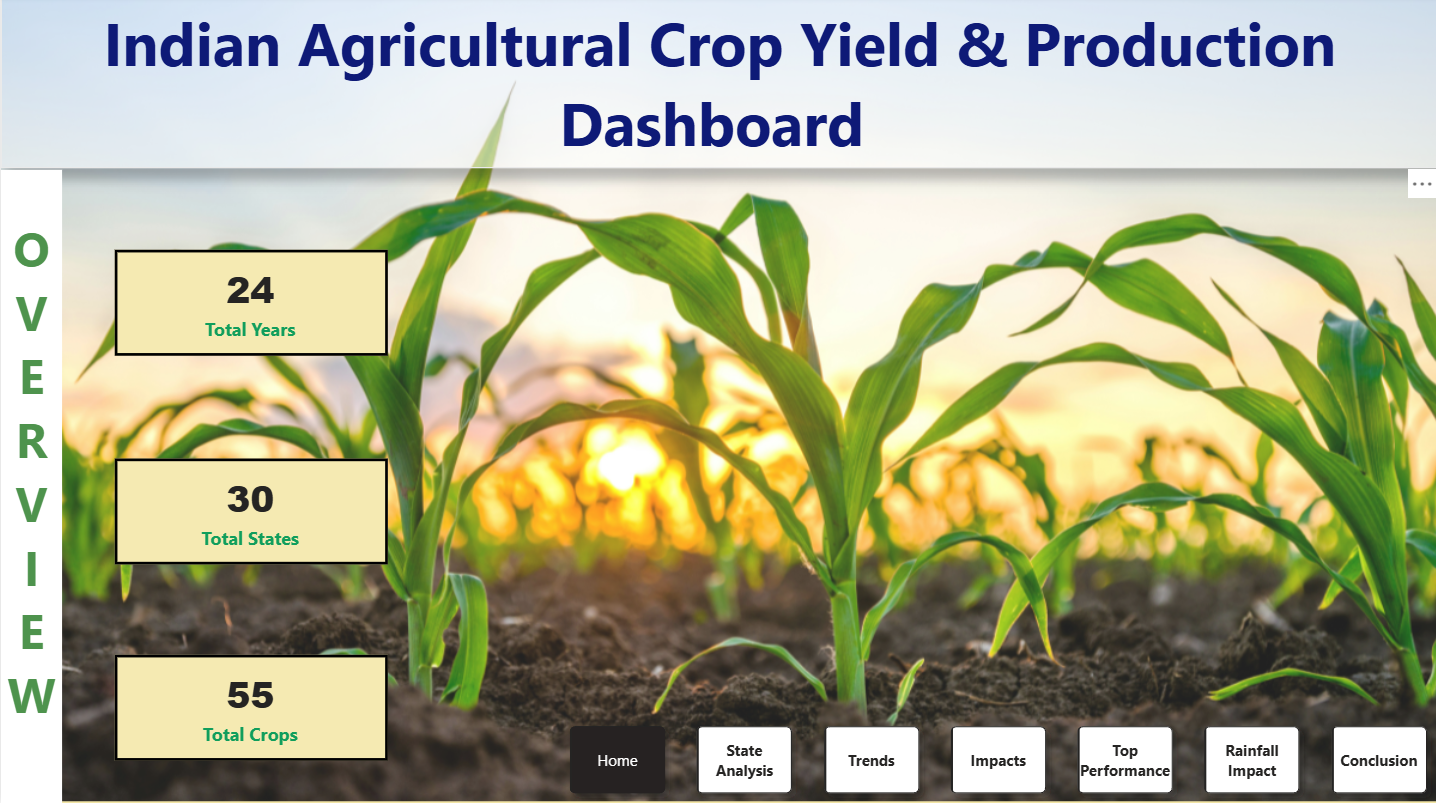

This screenshot's page, from the dashboard's own definition file:
{"tool":"powerbi","page":{"name":"Home","canvas":[1280,720],"ordinal":0},"visuals":[{"type":"textbox","box":[0,0,1280.3,153.7],"z":0},{"type":"card","fields":{"Values":["crop_yield.Total Years"]},"box":[101.4,225.7,242.9,94.3],"z":1000},{"type":"card","fields":{"Values":["crop_yield.Total States"]},"box":[101.4,411.4,242.9,94.3],"z":2000},{"type":"card","fields":{"Values":["crop_yield.Total Crops"]},"box":[101.4,587.1,242.9,94.3],"z":3000},{"type":"pageNavigator","box":[497.1,641.4,782.9,78.6],"z":3001},{"type":"textbox","box":[0,154.3,54.3,565.7],"z":3002}]}

Visuals, with their boxes in screenshot pixels (x1, y1, x2, y2), scaled from the page's 1280x720 canvas onto the 1436x803 screenshot:
textbox: [0,0,1435,171]
card - crop_yield.Total Years: [114,252,386,357]
card - crop_yield.Total States: [114,459,386,564]
card - crop_yield.Total Crops: [114,655,386,760]
pageNavigator: [558,715,1435,802]
textbox: [0,172,61,802]
